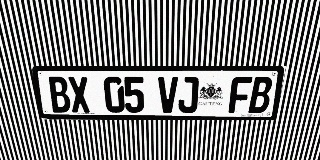0: (103, 77, 125, 113)
5: (124, 77, 145, 113)
B: (248, 77, 274, 113), (47, 77, 72, 112)
F: (228, 77, 252, 113)
J: (178, 77, 199, 113)
V: (158, 77, 178, 113)
X: (67, 77, 91, 113)
